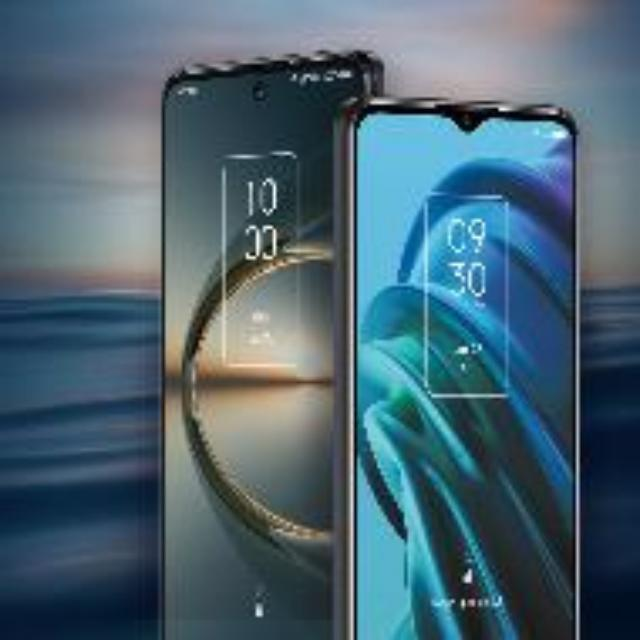PhoneUse: (344, 102, 578, 640), (172, 56, 374, 638)
